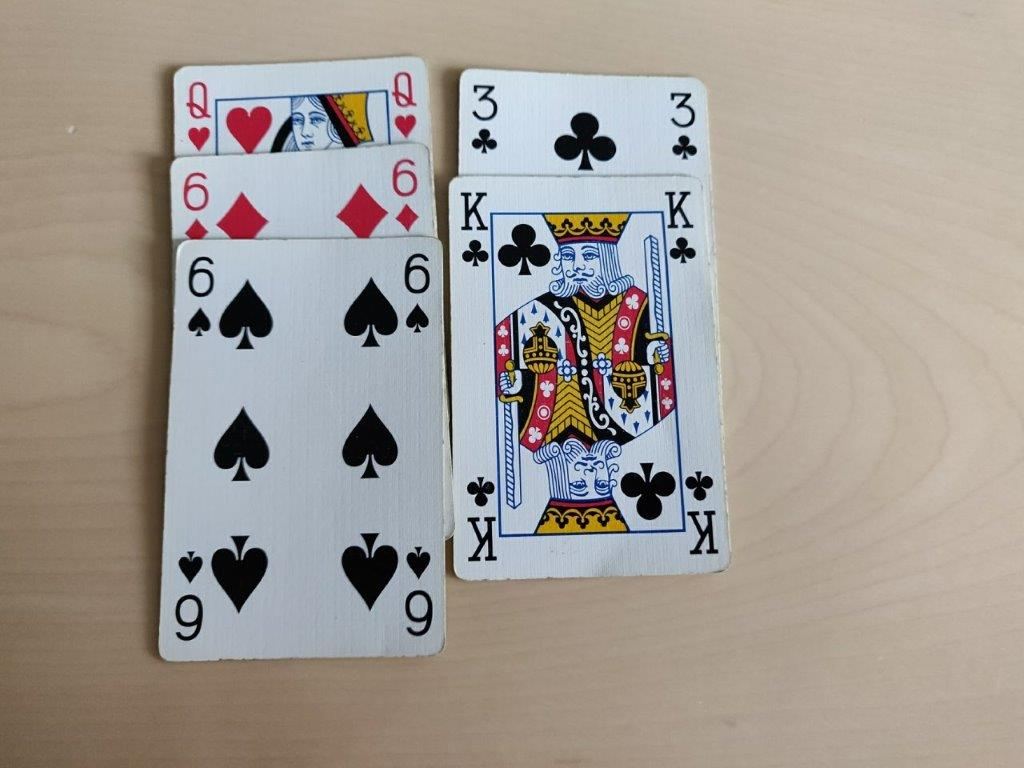3C: (468, 75, 501, 157), (668, 84, 701, 166)
6D: (388, 154, 424, 234), (181, 166, 214, 243)
6S: (184, 251, 217, 346), (401, 248, 434, 343)
KC: (456, 187, 492, 269), (663, 186, 699, 268)
QH: (179, 75, 220, 155), (383, 66, 424, 146)
